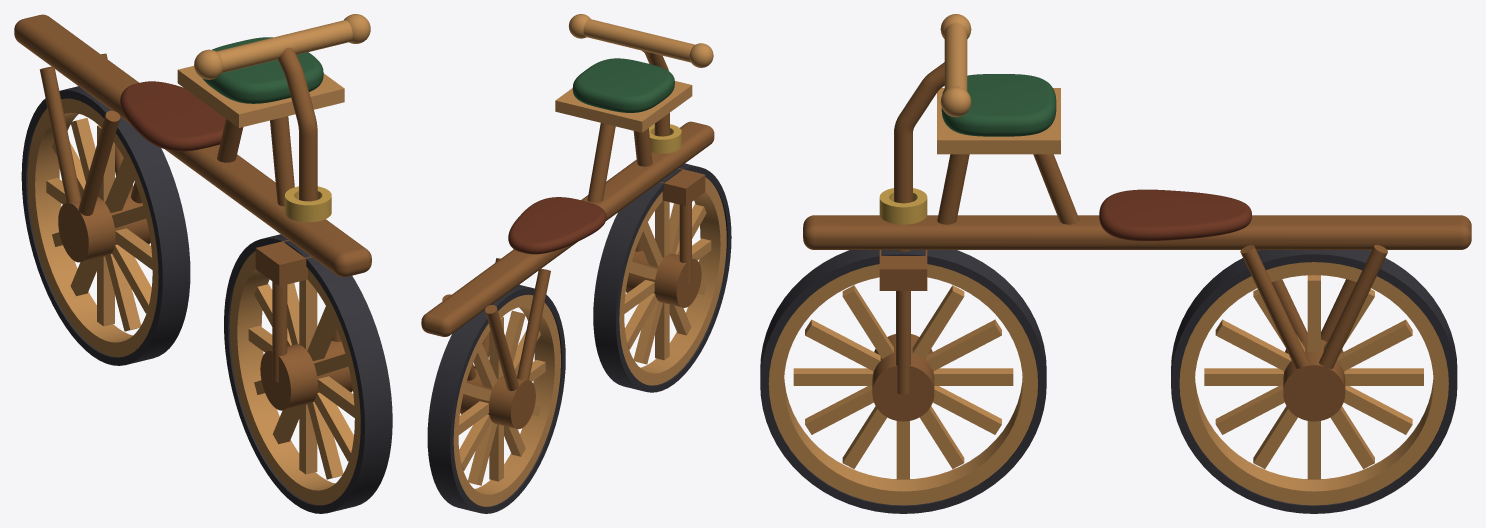
Rendered from draisine.glb.
3 views of the same model, side by side, from view 1: azimuth 30°, elevation 25°; view 2: azimuth 150°, elevation 25°; view 3: azimuth 270°, elevation 25° (orthographic). The views are drawn at different scales.
Visible parts, largest first — view 1: Beam, Tyre_F, Tyre_R, Rim_R, Rim_F, Saddle, Hub_F, ArmPad, Hub_R, ArmBoard, Handle, Column (+29 smaller); view 2: Beam, Tyre_F, Tyre_R, Rim_R, Rim_F, ArmPad, Saddle, ArmBoard, Hub_F, Hub_R, Handle, Stay_L (+25 smaller); view 3: Beam, Rim_R, Rim_F, Tyre_F, Tyre_R, Saddle, ArmPad, Hub_R, Hub_F, ArmBoard, Column, Stay_R (+28 smaller).
Boxes of the visible parts, x1,y1,x2,y2 form: Beam: [14, 14, 371, 277]; Tyre_F: [224, 234, 392, 513]; Tyre_R: [21, 86, 190, 365]; Rim_R: [27, 98, 158, 357]; Rim_F: [229, 251, 360, 505]; Saddle: [120, 81, 225, 151]; Hub_F: [260, 341, 352, 410]; ArmPad: [202, 37, 323, 103]; Hub_R: [58, 188, 150, 262]; ArmBoard: [177, 66, 344, 127]; Handle: [216, 20, 352, 72]; Column: [278, 47, 317, 201]; Beam: [421, 121, 714, 336]; Tyre_F: [593, 163, 731, 392]; Tyre_R: [427, 284, 565, 513]; Rim_R: [453, 294, 560, 506]; Rim_F: [619, 177, 726, 385]; ArmPad: [572, 58, 674, 112]; Saddle: [508, 197, 606, 254]; ArmBoard: [555, 81, 692, 132]; Hub_F: [626, 251, 701, 307]; Hub_R: [460, 368, 535, 429]; Handle: [583, 19, 694, 62]; Stay_L: [517, 268, 550, 380]; Beam: [803, 215, 1471, 249]; Rim_R: [1179, 262, 1448, 505]; Rim_F: [768, 264, 1037, 505]; Tyre_F: [760, 250, 1046, 513]; Tyre_R: [1171, 250, 1457, 513]; Saddle: [1099, 189, 1251, 240]; ArmPad: [941, 74, 1056, 136]; Hub_R: [1283, 339, 1345, 421]; Hub_F: [872, 334, 934, 421]; ArmBoard: [937, 88, 1060, 154]; Column: [894, 62, 944, 251]; Stay_R: [1240, 245, 1309, 368].
Size of the model in its own units: 0.212 by 0.526 by 0.745.
